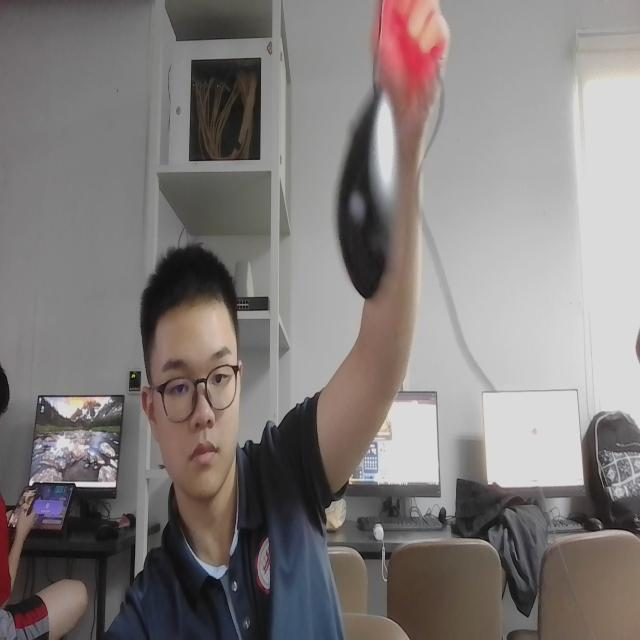mouse: (328, 81, 403, 311)
